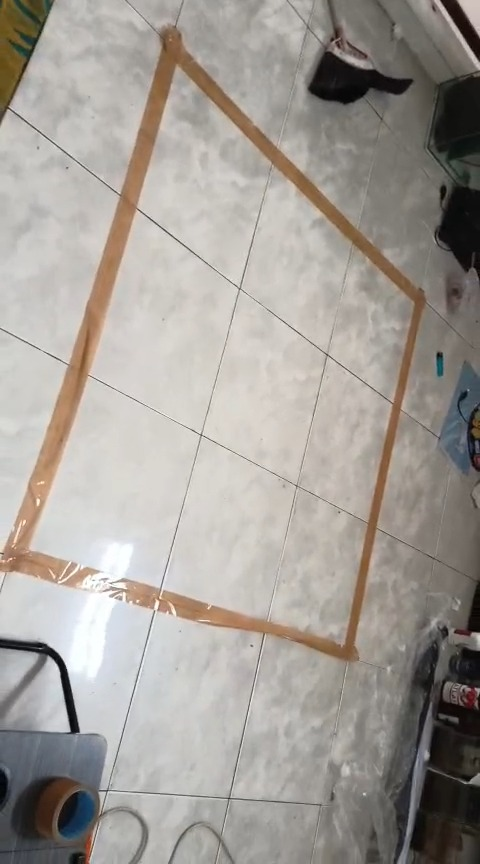floor marking: (0, 26, 424, 659)
